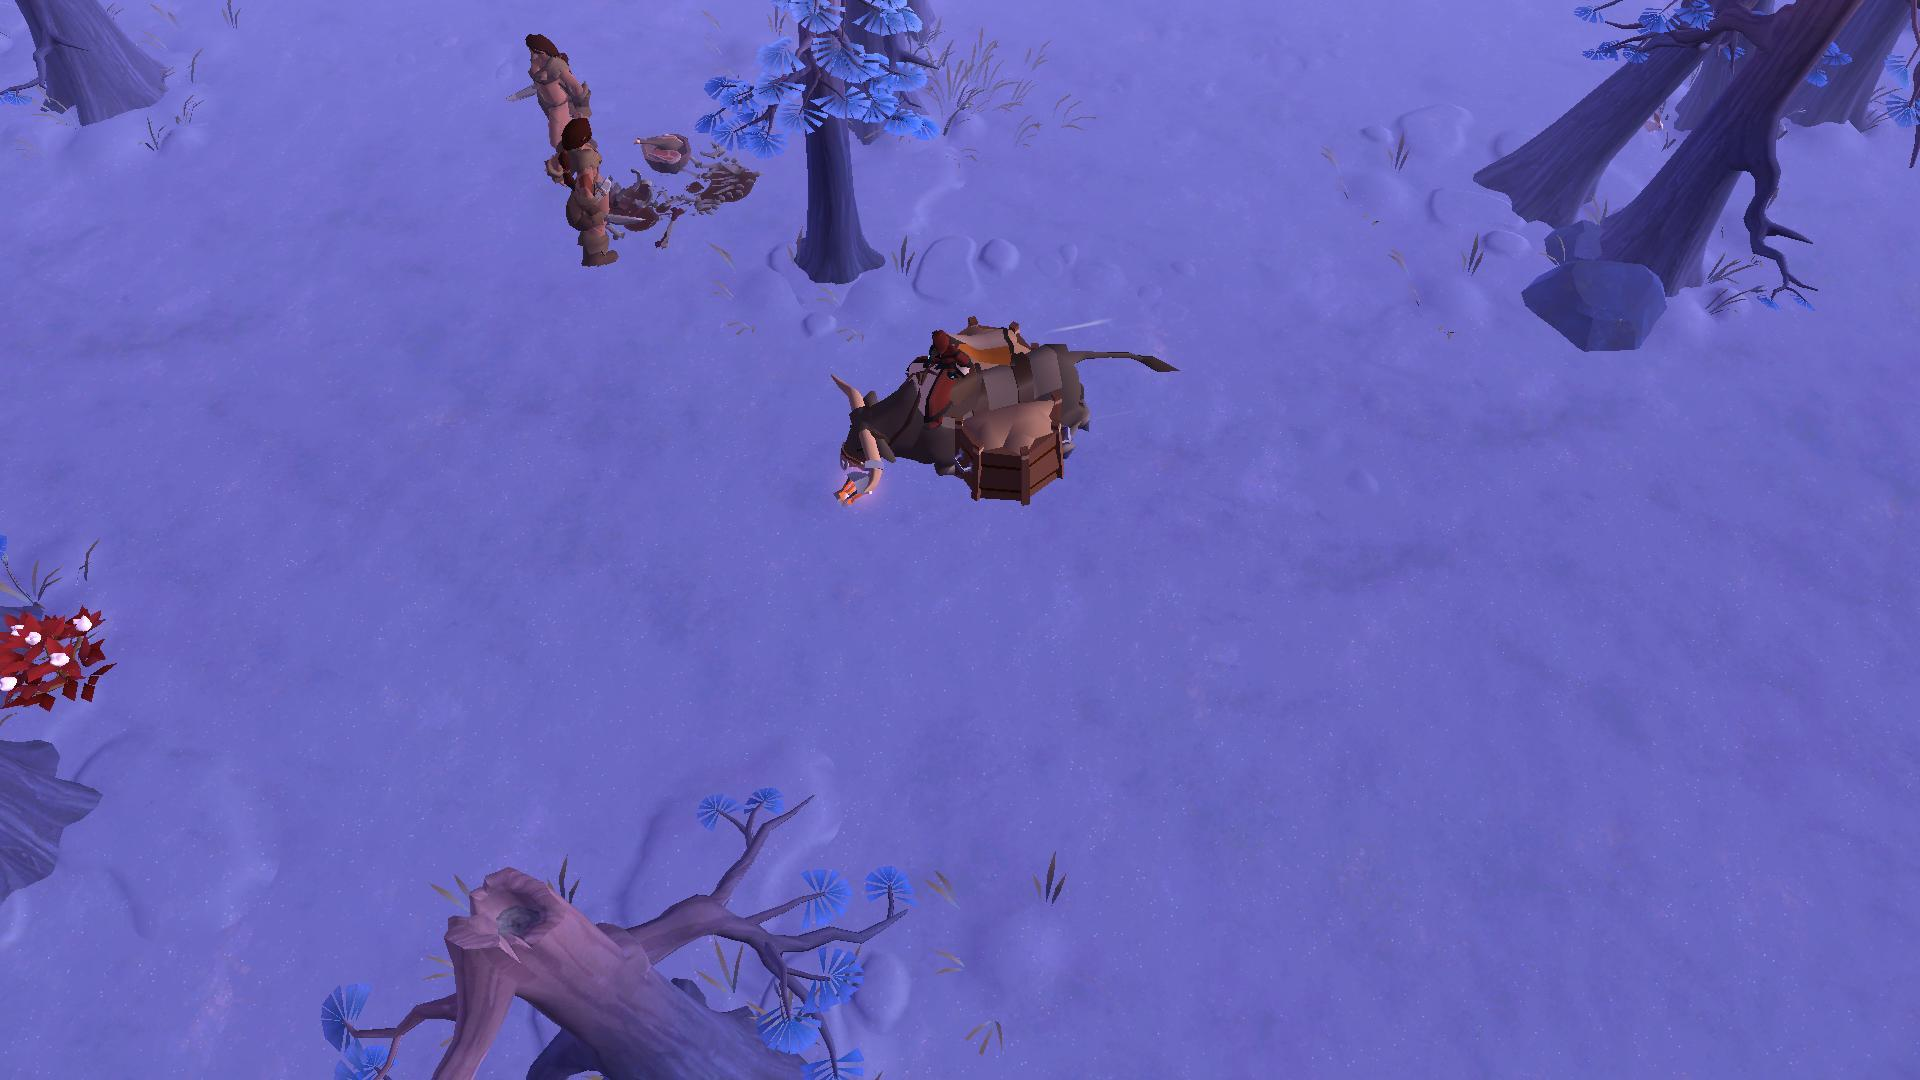enemy_factionKeeper: (549, 123, 624, 278), (509, 28, 585, 153)
fiber_t5: (0, 599, 117, 728)
